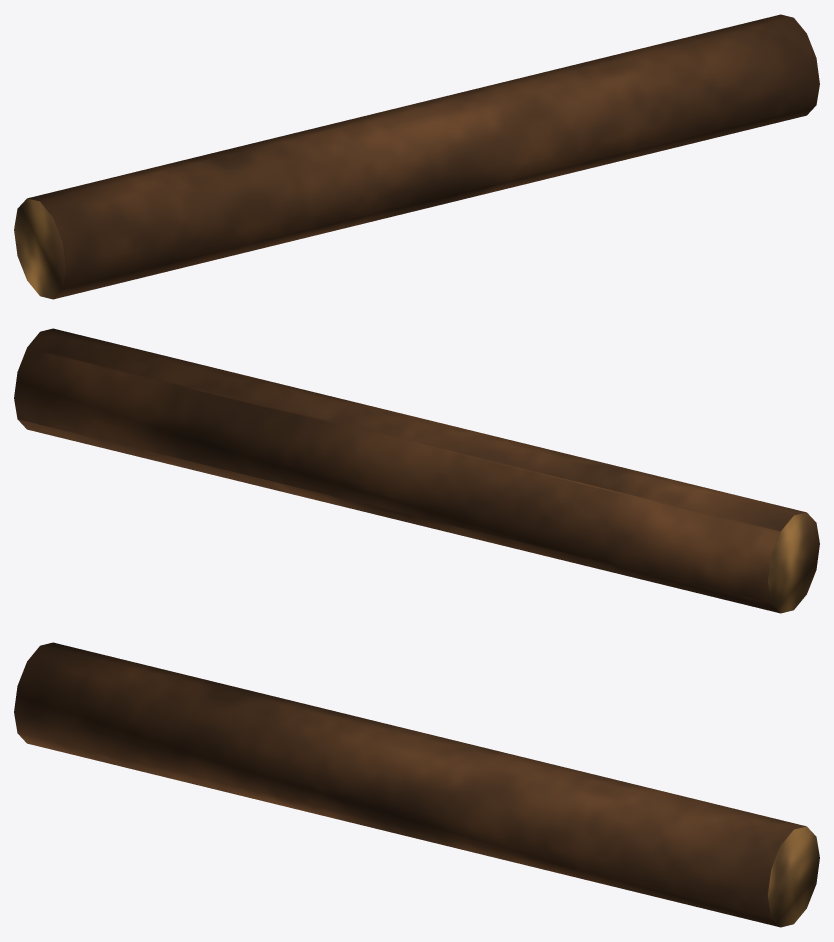
Rendered from log_beam.glb.
3 views of the same model, one above another, from view 1: azimuth 30°, elevation 25°; view 2: azimuth 150°, elevation 25°; view 3: azimuth 330°, elevation 25° (orthographic).
Parts seen in each view (by area): view 1: log_beam; view 2: log_beam; view 3: log_beam.
Boxes of the visible parts, box(x1,y1,x2,y2) form: log_beam: box(14, 14, 819, 299); log_beam: box(14, 328, 819, 613); log_beam: box(14, 642, 819, 927).
Size of the model in its own units: 1 by 0.12 by 0.12.
2 materials, 2 textured.
